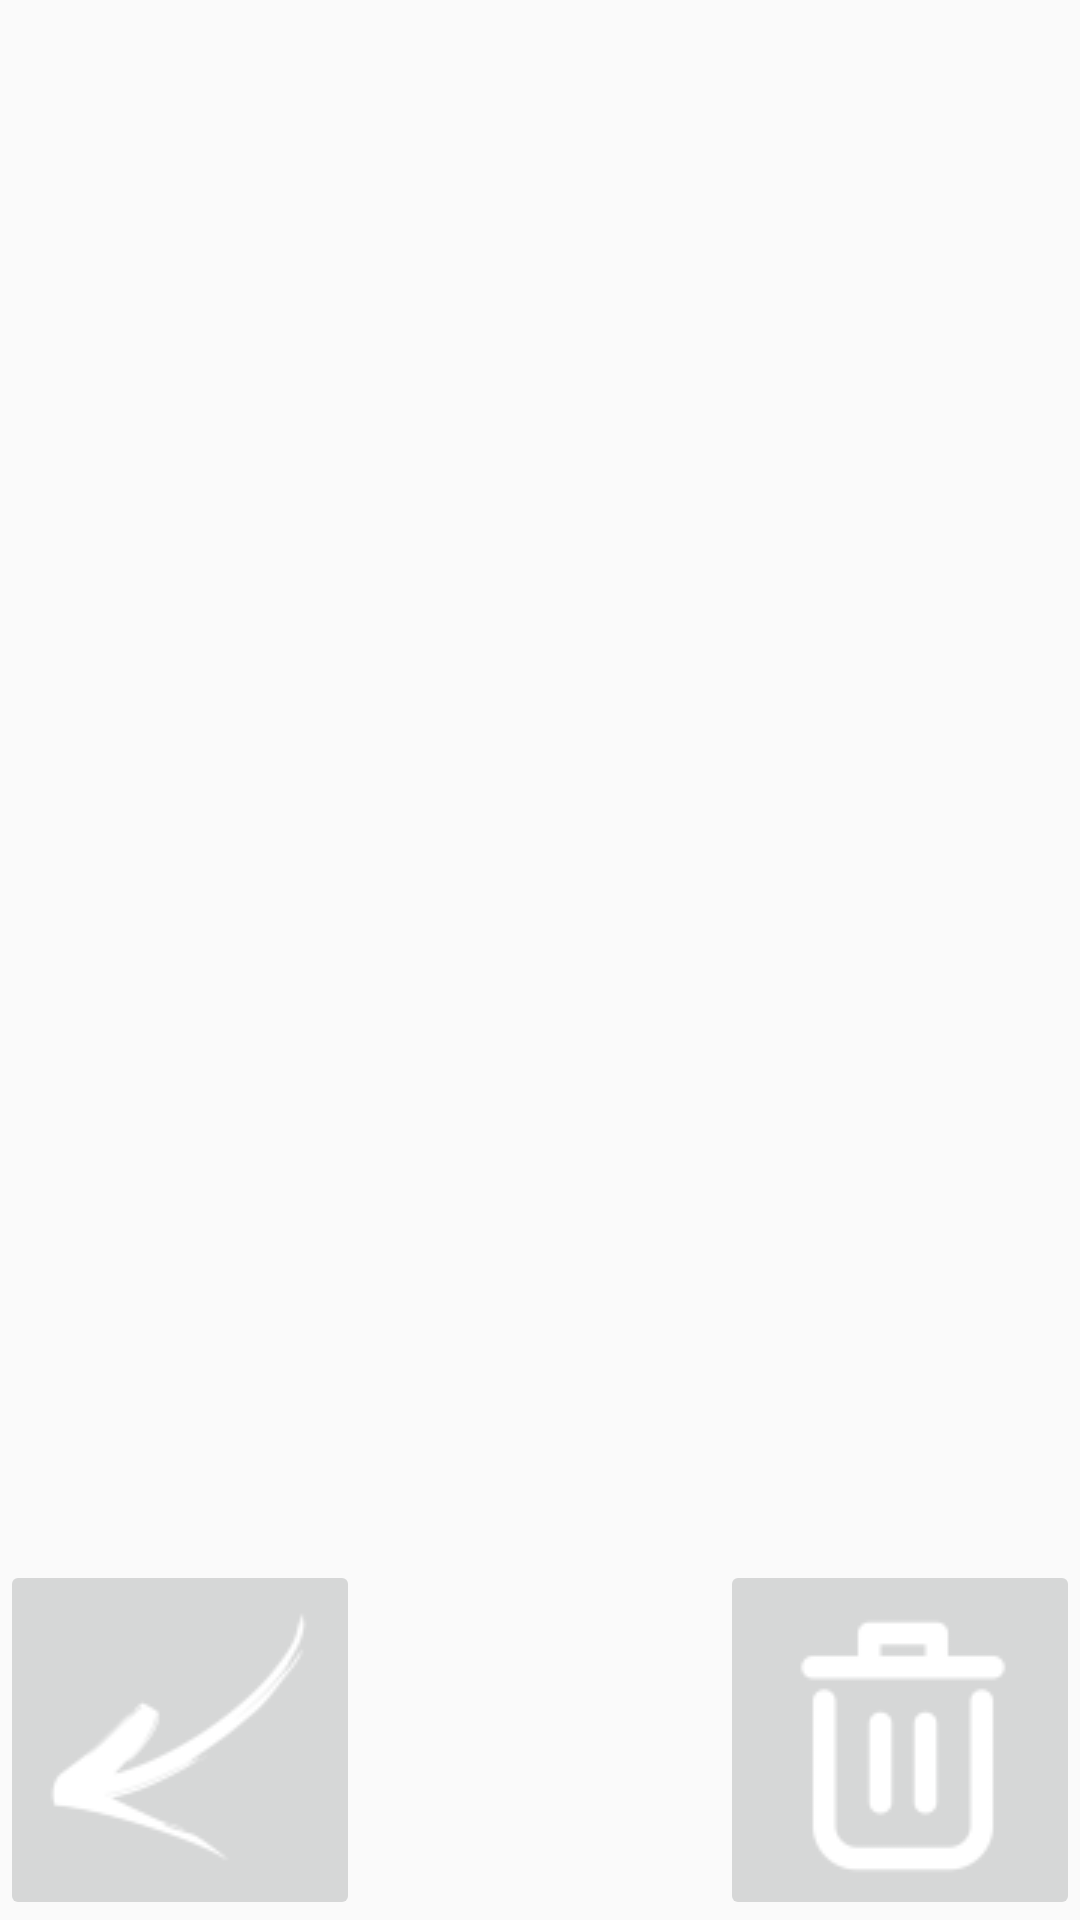

Icons on this 1080 × 1920 Android screen, each with the point to tap as [x,y]:
delete: [900,1740]
prev arr: [180,1740]
